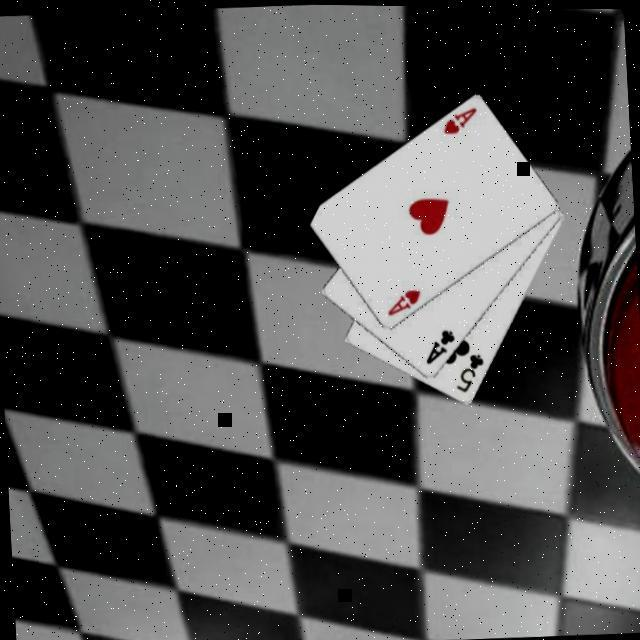5C: (454, 351, 490, 397)
AC: (423, 326, 461, 368)
AH: (385, 286, 427, 321), (442, 105, 484, 138)
